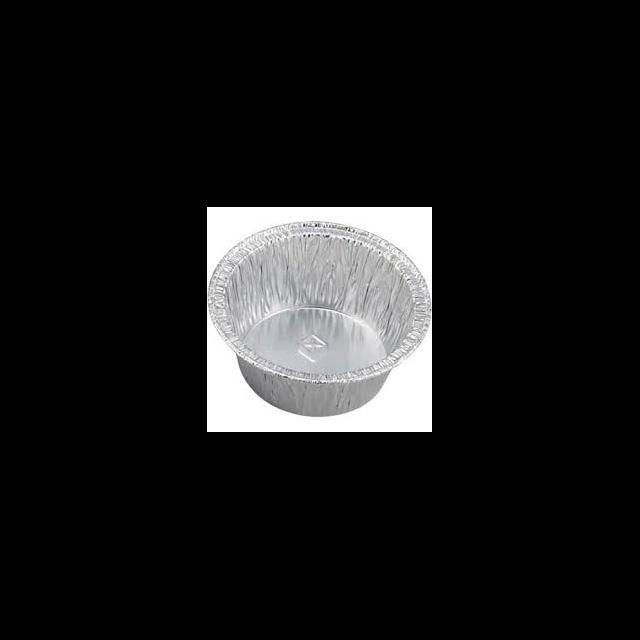metal: (208, 220, 430, 416)
